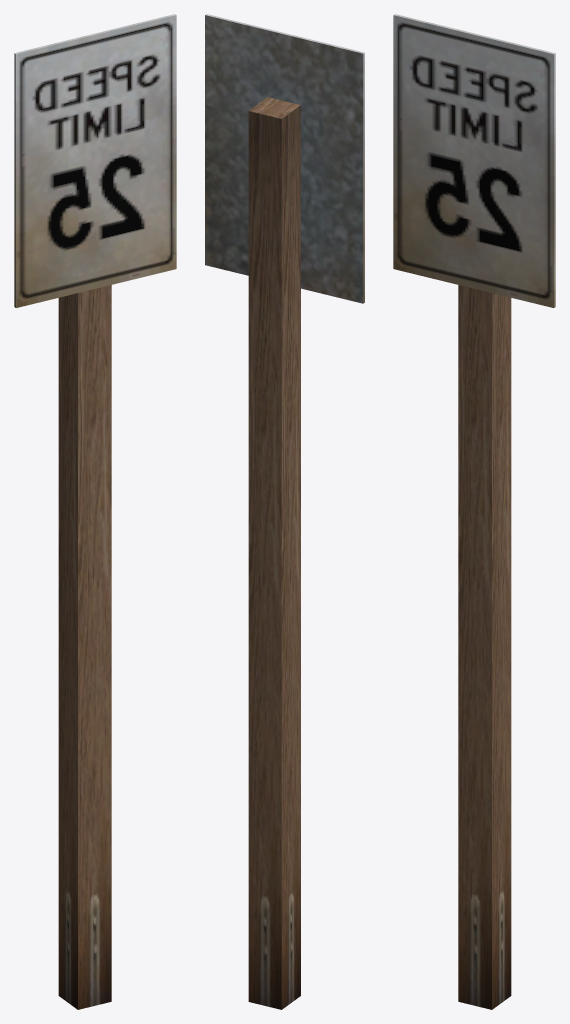
File: 25mph_wood.fbx
3 views of the same model, side by side, from view 1: azimuth 30°, elevation 25°; view 2: azimuth 150°, elevation 25°; view 3: azimuth 330°, elevation 25° (orthographic).
Parts seen in each view (by area): view 1: mesh_0, mesh_1; view 2: mesh_1, mesh_0; view 3: mesh_0, mesh_1.
Part boxes in pixels (<box>): mesh_0: <box>14,14,176,307</box>; mesh_1: <box>58,285,111,1009</box>; mesh_1: <box>248,97,300,1009</box>; mesh_0: <box>205,14,364,303</box>; mesh_0: <box>393,14,555,307</box>; mesh_1: <box>458,285,511,1009</box>.
Size of the model in its own units: 44.43 by 257 by 10.03.
2 materials, 2 textured.
